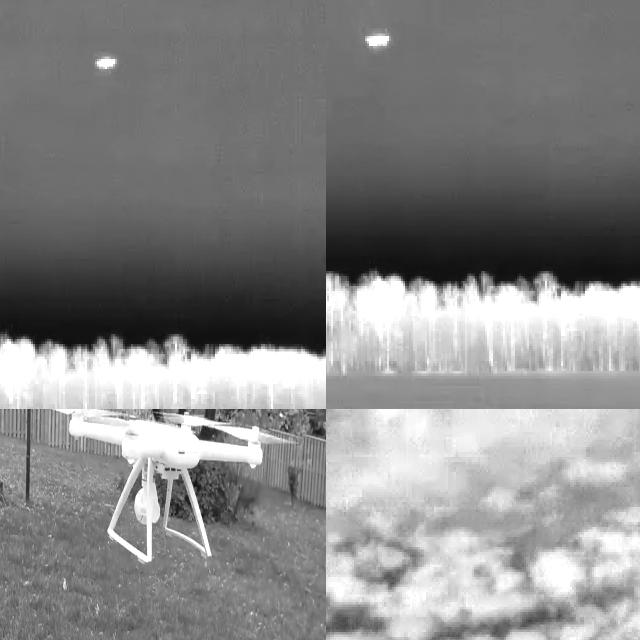1: (353, 27, 397, 60), (83, 50, 117, 78)
drone: (43, 409, 262, 565)
